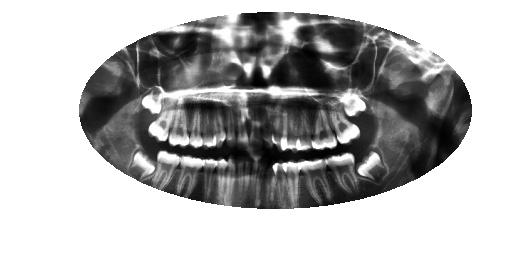i10healthy: (236, 155, 246, 209)
i11healthy: (224, 154, 237, 207)
i12healthy: (213, 154, 227, 203)
i13healthy: (200, 154, 218, 201)
i14healthy: (172, 149, 204, 200)
i15healthy: (150, 144, 182, 193)
i16healthy: (125, 144, 162, 184)
i1healthy: (352, 142, 392, 187)
i2healthy: (322, 145, 362, 194)
i3healthy: (295, 147, 333, 208)
i4healthy: (280, 153, 304, 209)
i5healthy: (271, 155, 289, 211)
i6chipped: (262, 153, 279, 208)
i7chipped: (254, 154, 267, 210)
i8decay: (247, 154, 259, 206)
i9healthy: (241, 157, 251, 209)
u10healthy: (222, 96, 239, 150)
u11healthy: (212, 95, 229, 150)
u12healthy: (202, 101, 219, 150)
u13healthy: (189, 93, 204, 150)
u14healthy: (168, 99, 192, 150)
u15healthy: (147, 92, 177, 147)
u16healthy: (138, 78, 166, 118)
u1healthy: (336, 83, 369, 120)
u2healthy: (325, 101, 362, 145)
u3healthy: (308, 101, 339, 151)
u4healthy: (291, 107, 313, 157)
u5healthy: (278, 98, 300, 156)
u6chipped: (267, 100, 284, 151)
u7chipped: (260, 94, 276, 153)
u8decay: (248, 98, 262, 152)
u9decay: (232, 97, 251, 154)
